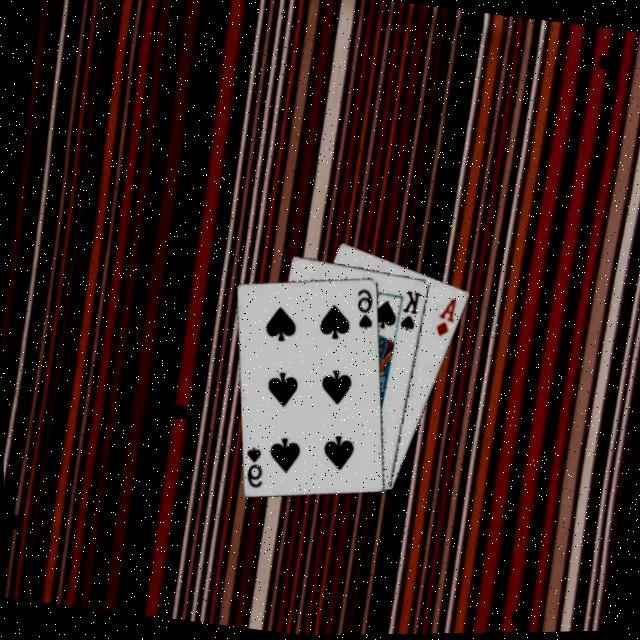6S: (350, 288, 380, 337), (239, 445, 269, 494)
AD: (432, 296, 460, 344)
KS: (398, 290, 424, 338)
